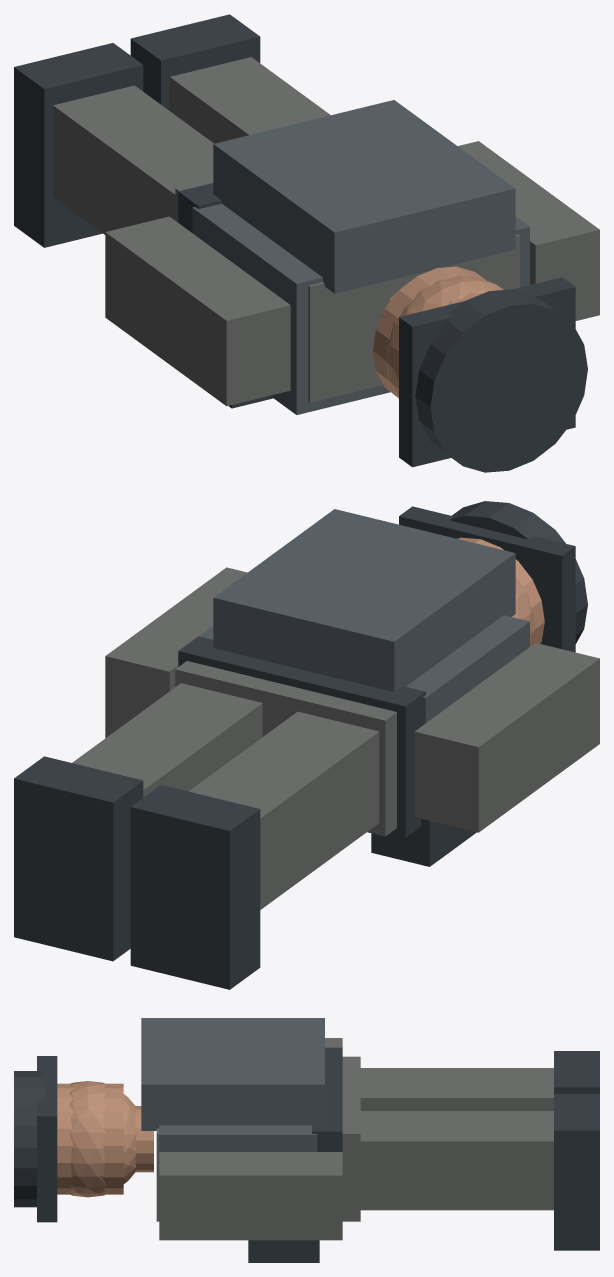
Rendered from player_operative.glb.
3 renders of one model, top to bottom at view 1: azimuth 30°, elevation 25°; view 2: azimuth 150°, elevation 25°; view 3: azimuth 270°, elevation 25°, orthographic. The views are drawn at different scales.
Visible parts, largest first — view 1: g14_backpack, g12_helmet, g7_armL, g0_legL, g2_bootL, g4_torso, g5_vest, g1_legR, g8_armR, g3_bootR, g13_helmet rim, g9_head (+2 smaller); view 2: g14_backpack, g2_bootL, g7_armL, g3_bootR, g0_legL, g1_legR, g8_armR, g4_torso, g6_belt, g13_helmet rim, g5_vest, g12_helmet (+3 smaller); view 3: g14_backpack, g1_legR, g8_armR, g0_legL, g3_bootR, g10_head volume, g5_vest, g9_head, g4_torso, g12_helmet, g13_helmet rim, g6_belt (+3 smaller).
Part boxes in pixels (x1,y1,x2,y2): g14_backpack: [213, 100, 515, 293]; g12_helmet: [415, 289, 587, 472]; g7_armL: [105, 216, 290, 406]; g0_legL: [53, 85, 213, 234]; g2_bootL: [14, 43, 143, 247]; g4_torso: [175, 179, 519, 402]; g5_vest: [192, 203, 529, 414]; g1_legR: [169, 57, 330, 143]; g8_armR: [458, 141, 599, 320]; g3_bootR: [130, 14, 260, 110]; g13_helmet rim: [399, 277, 575, 467]; g9_head: [372, 266, 485, 398]; g14_backpack: [213, 509, 515, 691]; g2_bootL: [130, 785, 260, 989]; g7_armL: [414, 643, 599, 832]; g3_bootR: [14, 756, 143, 961]; g0_legL: [189, 711, 379, 909]; g1_legR: [72, 683, 262, 797]; g8_armR: [105, 567, 247, 737]; g4_torso: [175, 661, 396, 836]; g6_belt: [178, 636, 425, 837]; g13_helmet rim: [399, 506, 575, 652]; g5_vest: [199, 615, 529, 725]; g12_helmet: [450, 501, 587, 643]; g14_backpack: [141, 1018, 324, 1130]; g1_legR: [360, 1111, 553, 1210]; g8_armR: [159, 1152, 342, 1240]; g0_legL: [360, 1068, 553, 1110]; g3_bootR: [554, 1094, 599, 1250]; g10_head volume: [69, 1081, 136, 1197]; g5_vest: [159, 1125, 317, 1151]; g9_head: [57, 1083, 123, 1194]; g4_torso: [156, 1056, 360, 1221]; g12_helmet: [14, 1071, 44, 1207]; g13_helmet rim: [37, 1056, 57, 1222]; g6_belt: [312, 1047, 342, 1151].
Size of the model in its own units: 1.28 by 0.72 by 2.3.
